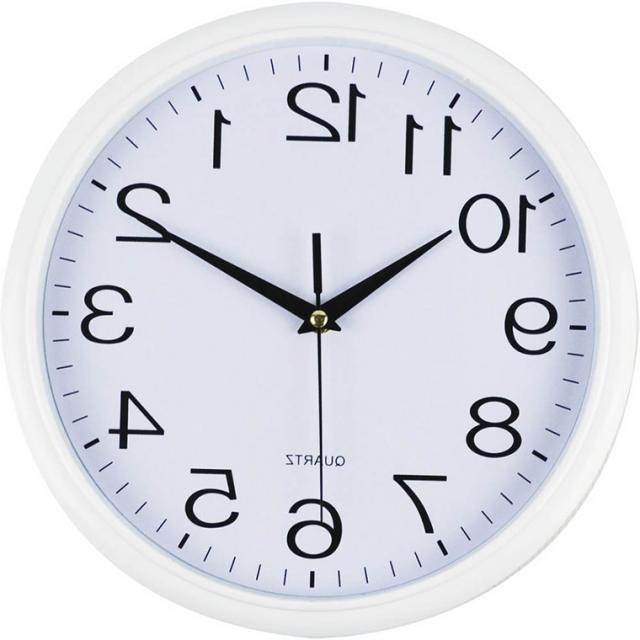clock: (160, 0, 600, 499)
